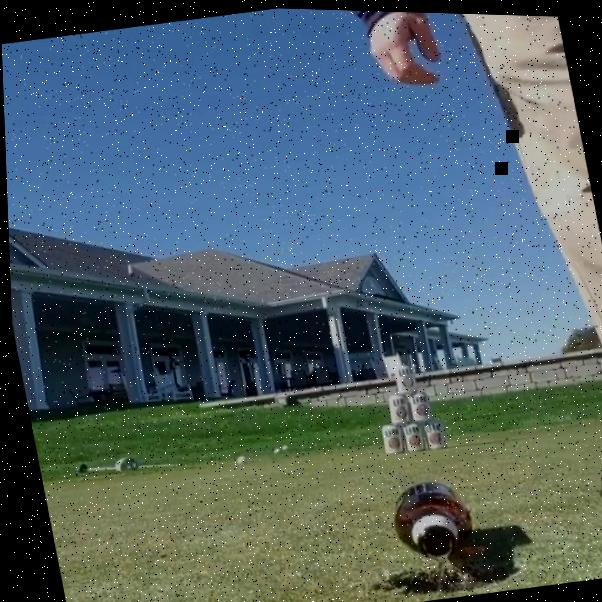GolfBall: (230, 452, 244, 465), (267, 445, 279, 454), (276, 442, 286, 450)
